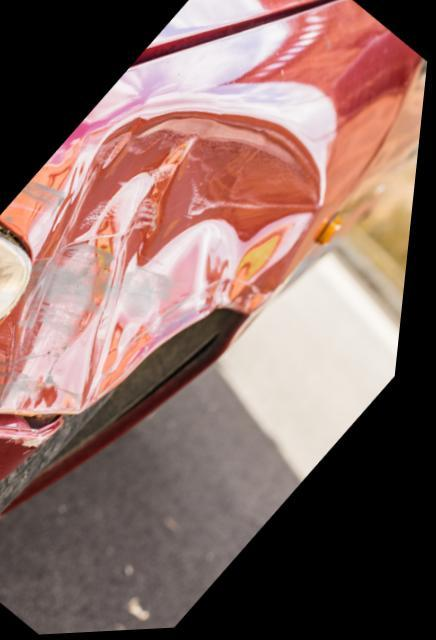dent: (0, 112, 323, 416)
